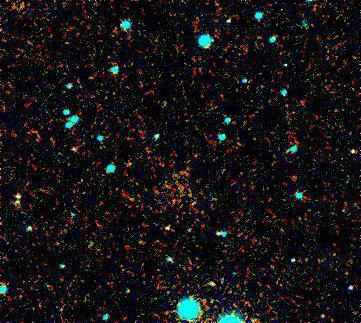star: (153, 212, 183, 242)
